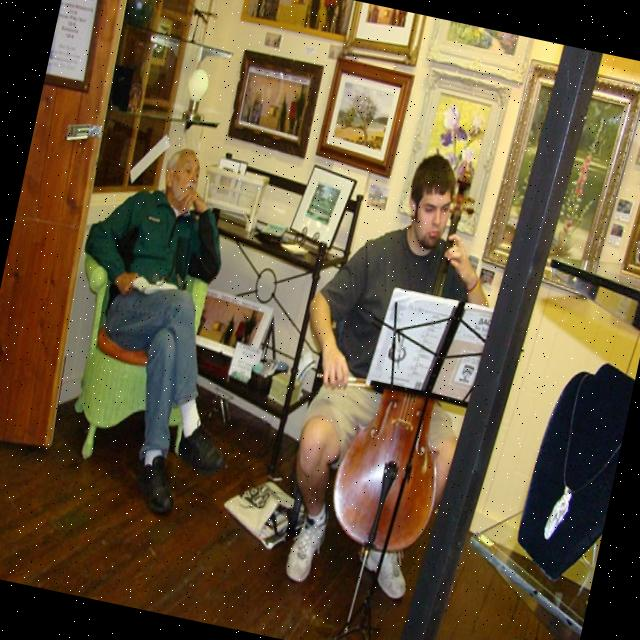cello: (320, 146, 507, 565)
